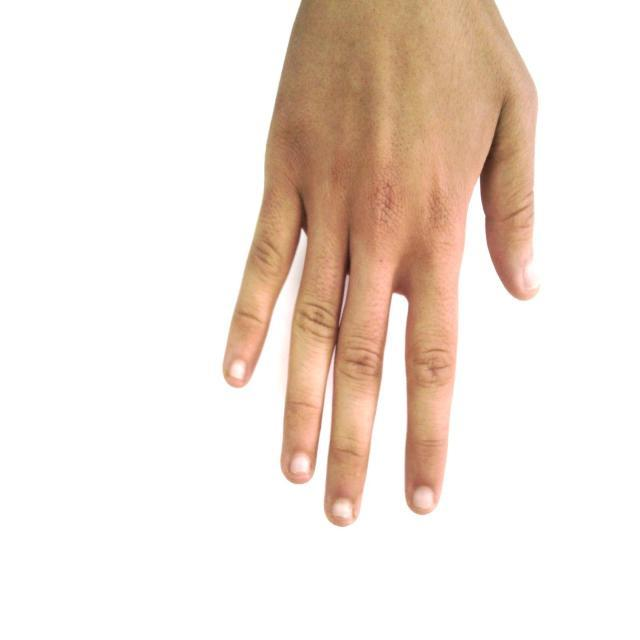Fingernail: (413, 486, 434, 508), (290, 454, 310, 473), (333, 499, 352, 518), (229, 359, 247, 379), (525, 264, 539, 289)
